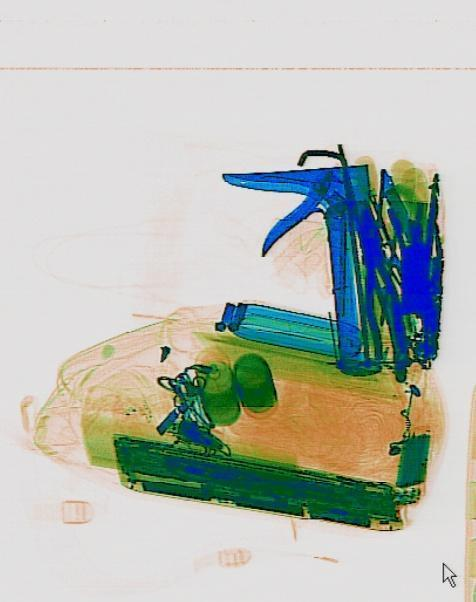Knife: (219, 159, 384, 369)
Pliers: (347, 200, 408, 362)
